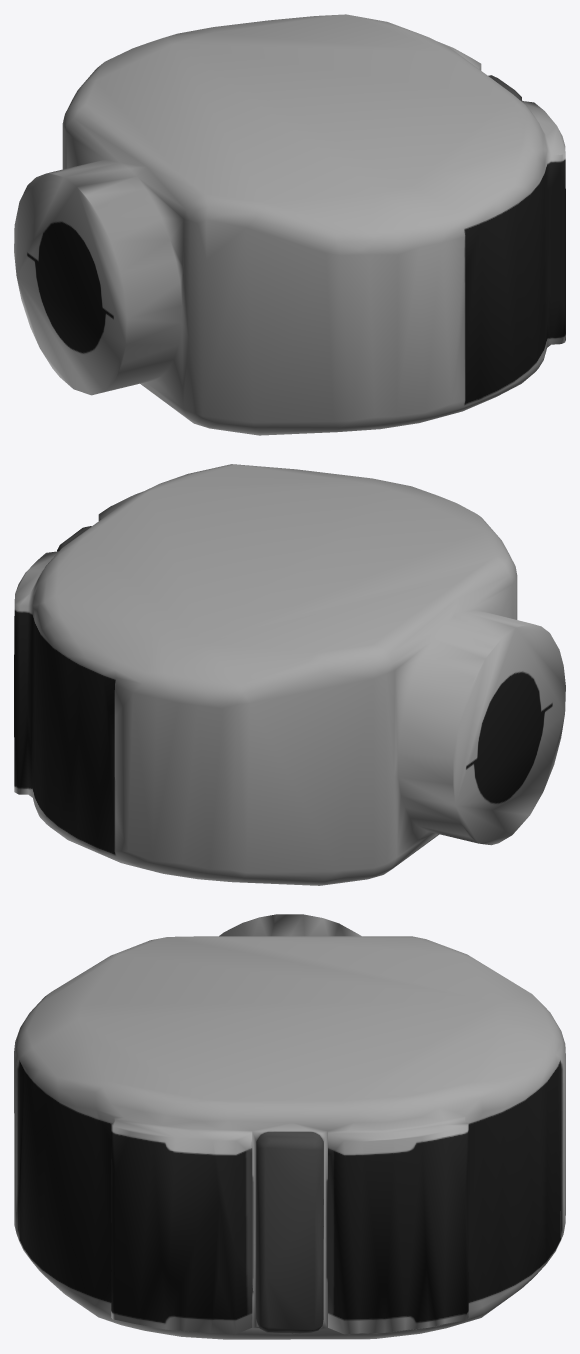
Rendered from gripper_palm.obj.
3 views of the same model, one above another, from view 1: azimuth 30°, elevation 25°; view 2: azimuth 150°, elevation 25°; view 3: azimuth 270°, elevation 25° (orthographic). The views are drawn at different scales.
Visible parts, largest first — view 1: SM_palm3_M1000; view 2: SM_palm3_M1000; view 3: SM_palm3_M1000.
Boxes of the visible parts, left/top/right/bottom form: SM_palm3_M1000: left=14, top=14, right=565, bottom=435; SM_palm3_M1000: left=14, top=464, right=565, bottom=885; SM_palm3_M1000: left=14, top=914, right=565, bottom=1339.
Size of the model in its own units: 0.0961 by 0.0485 by 0.102.
Materials: 1 (1 with a texture image).
